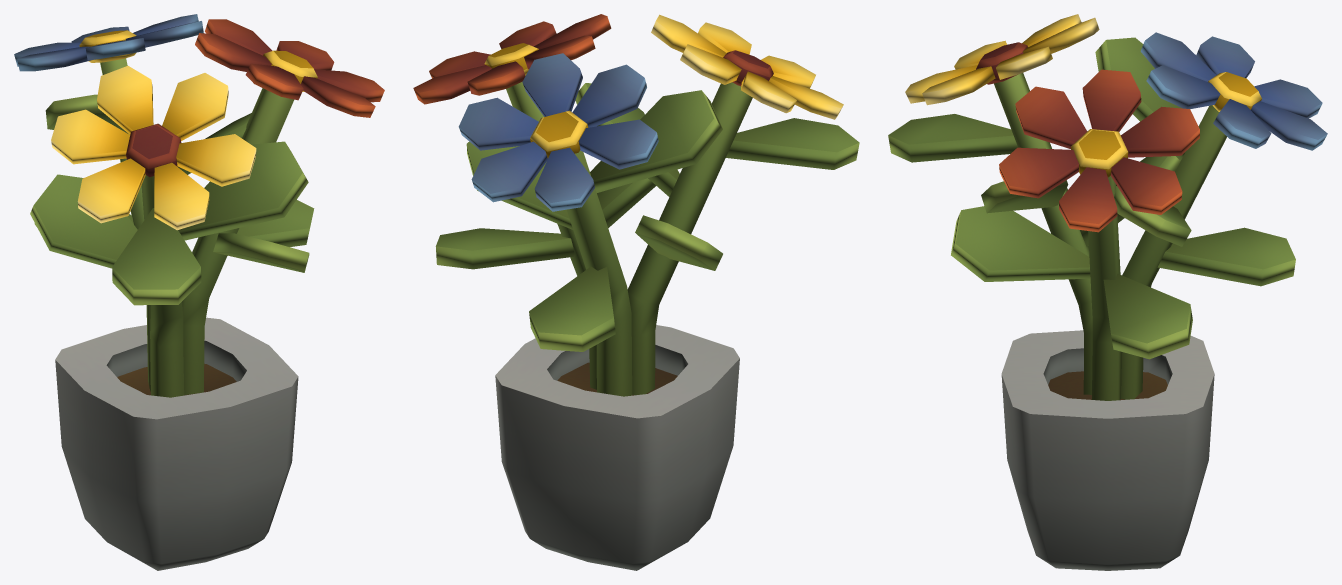
File: flower_bunch_all_colours_pot.fbx
3 views of the same model, side by side, from view 1: azimuth 30°, elevation 25°; view 2: azimuth 150°, elevation 25°; view 3: azimuth 270°, elevation 25° (orthographic).
Parts seen in each view (by area): view 1: flower_bunch_all_colours_pot; view 2: flower_bunch_all_colours_pot; view 3: flower_bunch_all_colours_pot.
Part boxes in pixels (bbox=[...]): flower_bunch_all_colours_pot: bbox=[14, 14, 384, 570]; flower_bunch_all_colours_pot: bbox=[413, 14, 859, 570]; flower_bunch_all_colours_pot: bbox=[888, 14, 1327, 570].
Size of the model in its own units: 80.65 by 108 by 87.25.
